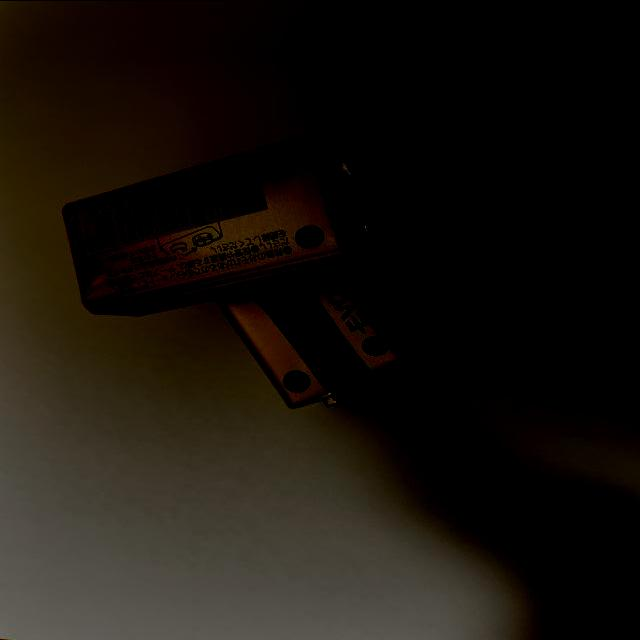9V: (62, 130, 376, 317), (215, 267, 420, 410)
